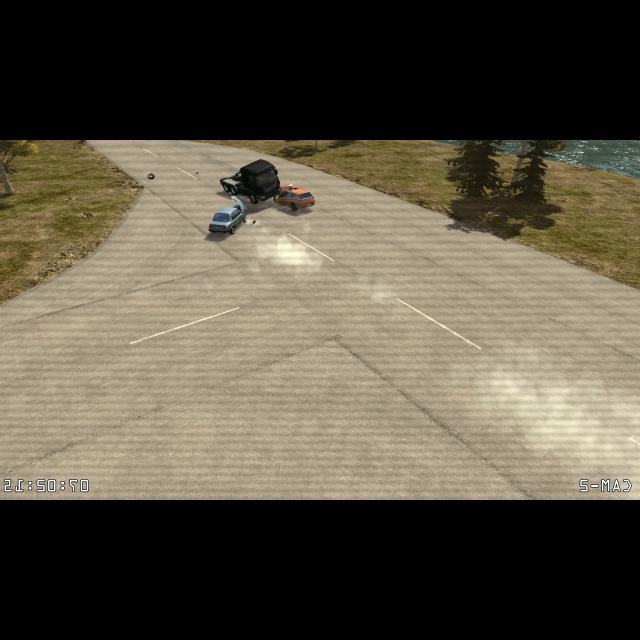accident: (225, 157, 316, 210)
